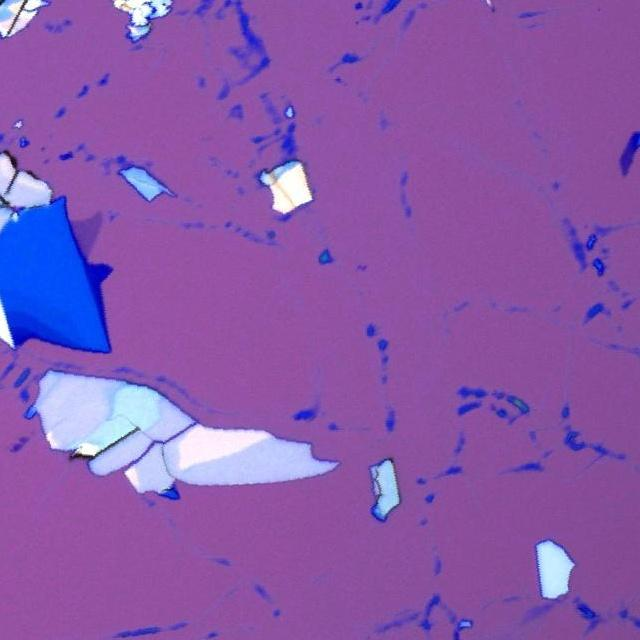monolayer-eWW4: (72, 205, 105, 263)
